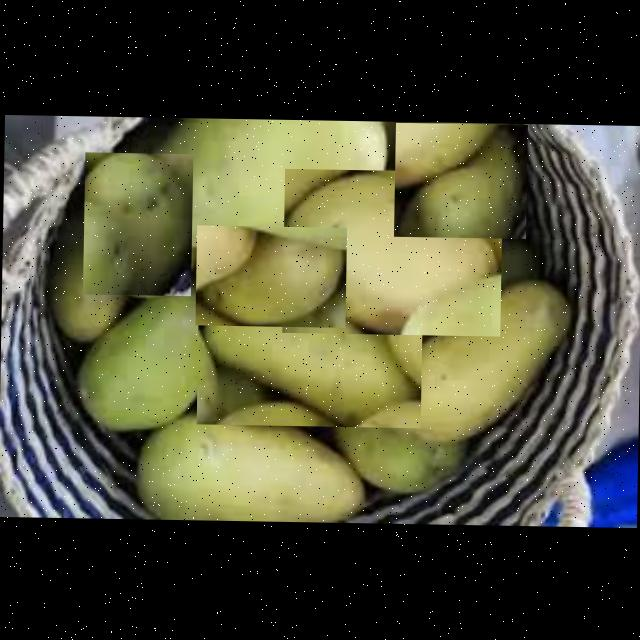Defected potato: (280, 167, 502, 335), (125, 115, 392, 251), (379, 279, 576, 443), (196, 299, 422, 427), (133, 412, 370, 522), (66, 269, 222, 436), (82, 151, 192, 295), (392, 121, 526, 238), (194, 224, 346, 326), (336, 403, 461, 498), (45, 224, 130, 360)
